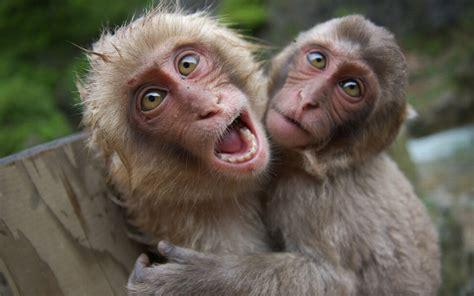monkey: (128, 16, 438, 296), (83, 13, 269, 296)
